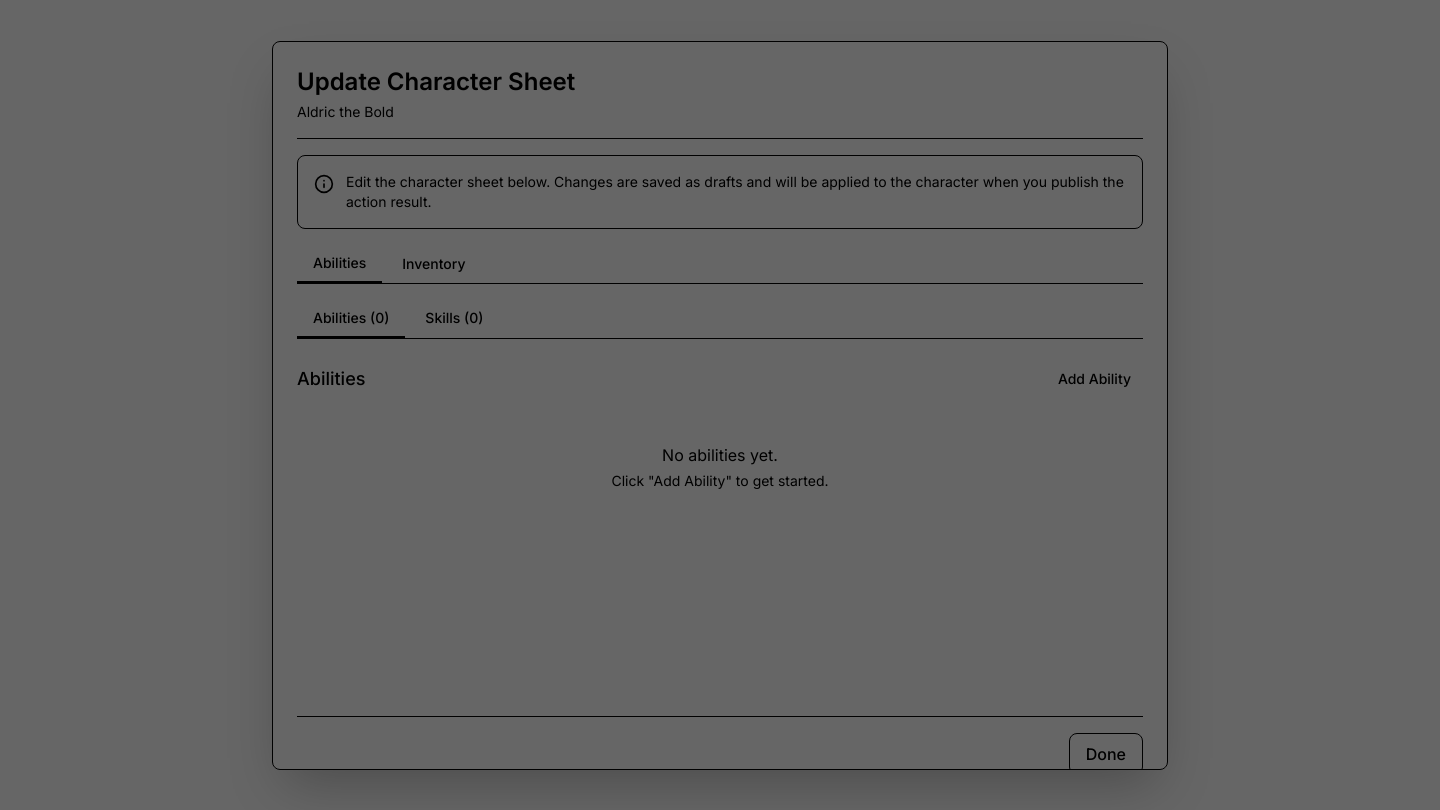
Test: UpdateCharacterSheetModal › Initialization from characterData (no drafts) › shows inventory items from characterData when no drafts exist
What coordinates should you click on to do the following:
click the button "inventory"
I would click on:
 (434, 264)
Its box is [386,244,481,282].
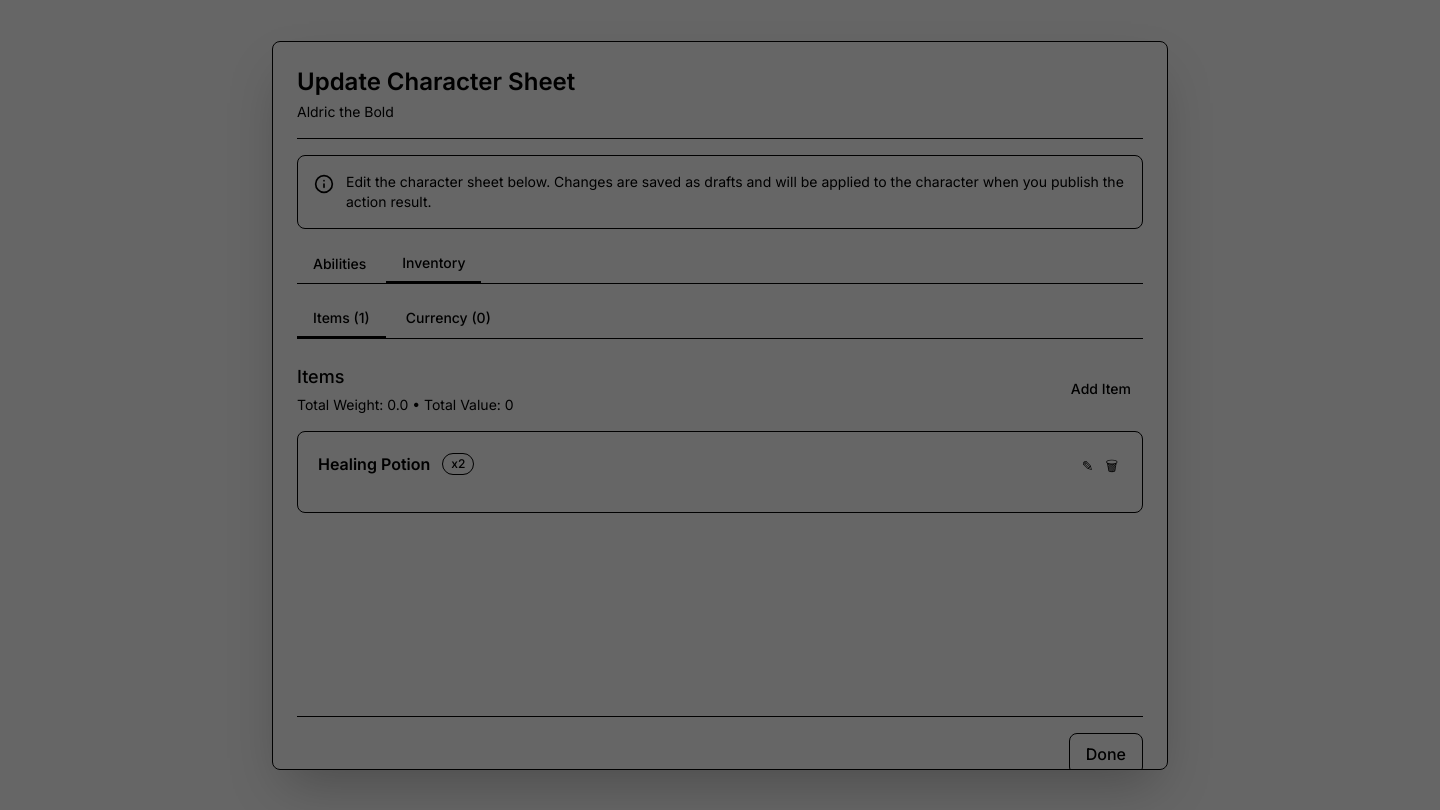
Now the heading "Healing Potion" is shown, box [318,452,430,476]
